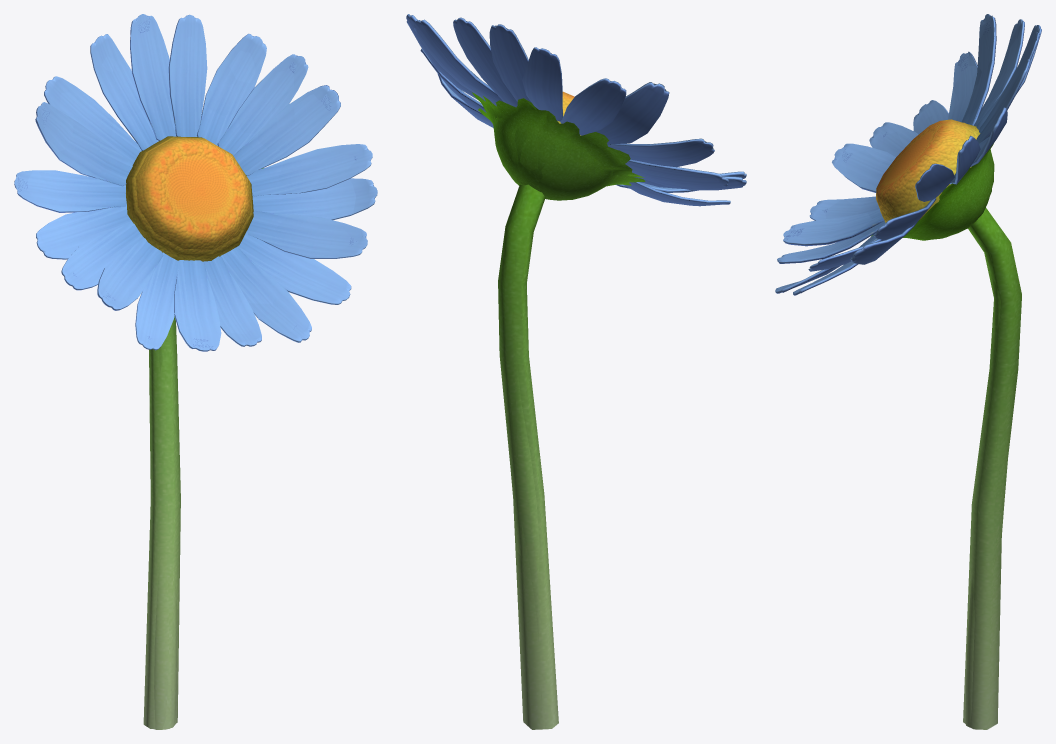
File: POI_Flower_l_Lod0.fbx
3 renders of one model, left to right at view 1: azimuth 30°, elevation 25°; view 2: azimuth 150°, elevation 25°; view 3: azimuth 270°, elevation 25°, orthographic. The views are drawn at different scales.
Visible parts, largest first — view 1: mesh_Flower_l_petals, mesh_Flower_l_Lod1_3, mesh_Flower_l_Lod1_4, mesh_Flower_l_Lod1_1, mesh_Flower_l_stem, mesh_Flower_l_center; view 2: mesh_Flower_l_petals, mesh_Flower_l_Lod1_1, mesh_Flower_l_calyx, mesh_Flower_l_stem, mesh_Flower_l_Lod1_2; view 3: mesh_Flower_l_petals, mesh_Flower_l_Lod1_1, mesh_Flower_l_Lod1_3, mesh_Flower_l_Lod1_4, mesh_Flower_l_stem, mesh_Flower_l_calyx, mesh_Flower_l_Lod1_2, mesh_Flower_l_center.
Boxes of the visible parts, x1,y1,x2,y2 form: mesh_Flower_l_petals: (14, 14, 377, 351); mesh_Flower_l_Lod1_3: (14, 15, 375, 349); mesh_Flower_l_Lod1_4: (126, 136, 253, 261); mesh_Flower_l_Lod1_1: (143, 316, 180, 728); mesh_Flower_l_stem: (150, 323, 177, 729); mesh_Flower_l_center: (132, 137, 252, 255); mesh_Flower_l_petals: (406, 14, 746, 206); mesh_Flower_l_Lod1_1: (498, 184, 558, 729); mesh_Flower_l_calyx: (472, 92, 645, 200); mesh_Flower_l_stem: (500, 189, 544, 729); mesh_Flower_l_Lod1_2: (474, 94, 643, 198); mesh_Flower_l_petals: (775, 14, 1041, 295); mesh_Flower_l_Lod1_1: (963, 208, 1021, 729); mesh_Flower_l_Lod1_3: (779, 15, 1036, 284); mesh_Flower_l_Lod1_4: (876, 119, 980, 222); mesh_Flower_l_stem: (965, 219, 1018, 727); mesh_Flower_l_calyx: (903, 143, 994, 240); mesh_Flower_l_Lod1_2: (871, 150, 992, 240); mesh_Flower_l_center: (880, 122, 969, 221).
Size of the model in its own units: 9.94 by 20.56 by 7.15.
2 materials, 2 textured.
